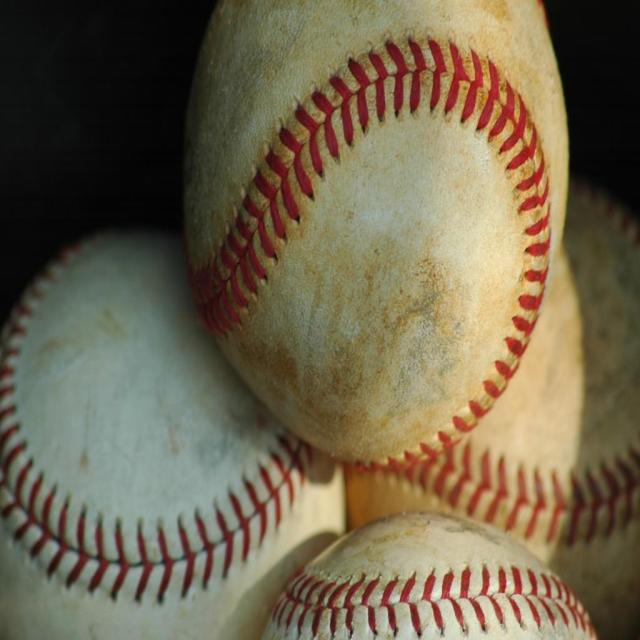baseball: (185, 2, 565, 470), (5, 224, 292, 634), (271, 505, 597, 636)
